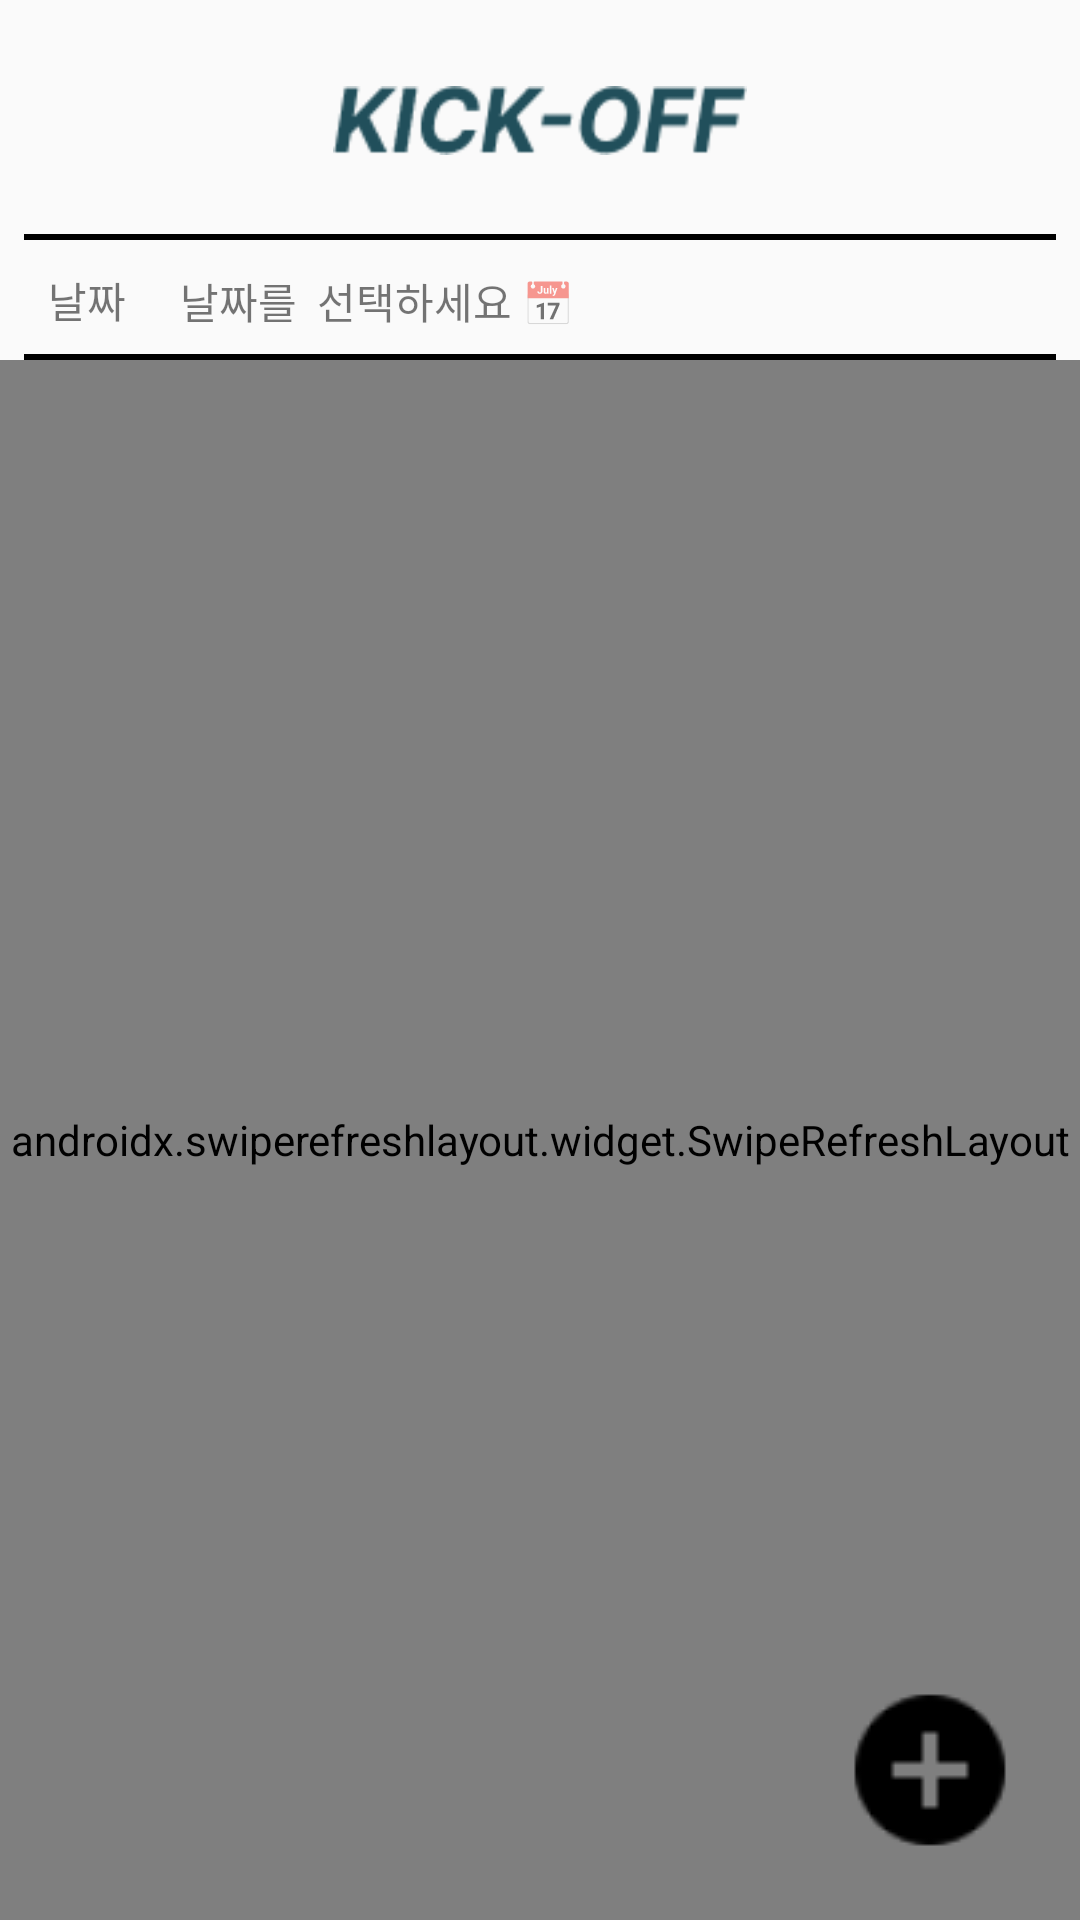

Locate icon controls on the screen. Image size 1080×1920, boxes as (x1, y1, x2, y2).
plus: (854, 1694, 1006, 1846)
